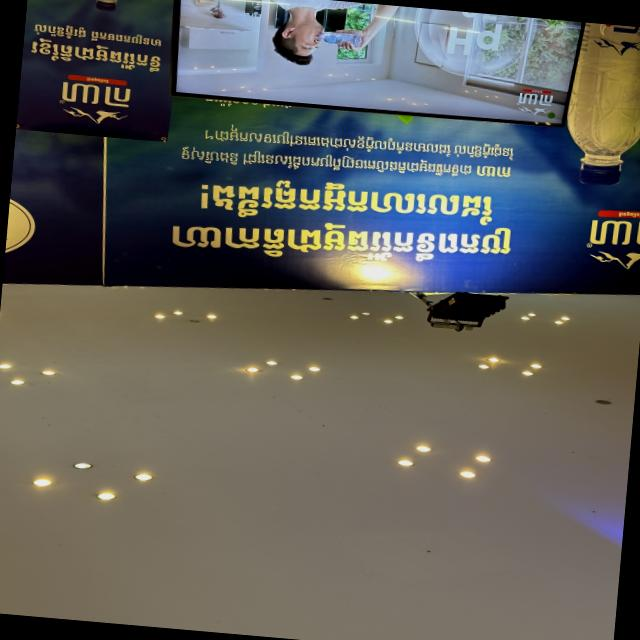1: (195, 124, 521, 163), (28, 22, 166, 49)
2: (175, 138, 514, 185)
Yolov11_80vkh: (170, 214, 521, 266), (184, 174, 500, 226), (27, 35, 164, 77), (51, 70, 136, 110), (515, 93, 555, 110)
